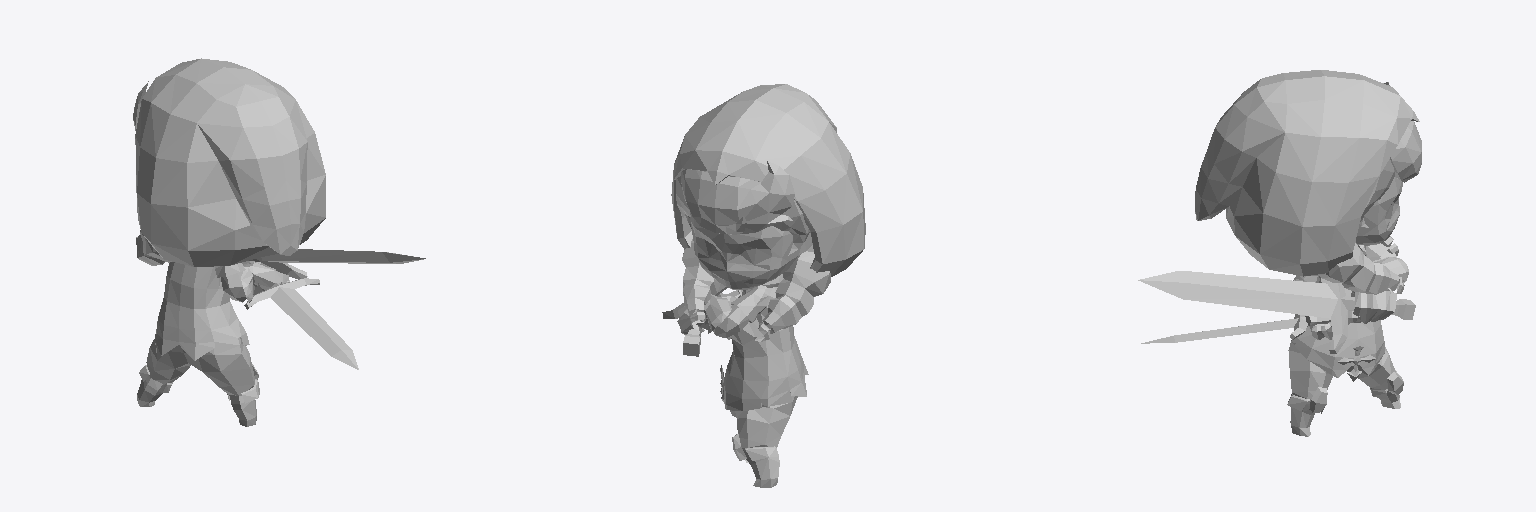
File: thief15f.obj
3 views of the same model, side by side, from view 1: azimuth 30°, elevation 25°; view 2: azimuth 150°, elevation 25°; view 3: azimuth 270°, elevation 25° (orthographic).
Visible parts, largest first — view 1: EQUIP_CAP_WORRIER5_LOD120, EQUIP_UPPER_WORRIER5_LOD120, EQUIP_FEET_WORRIER5_LOD120, sword1_LOD2, sword1_LOD003, EQUIP_GLOVES_WORRIER5_LOD120, EQUIP_HAIR_BODY_LOD120; view 2: EQUIP_CAP_WORRIER5_LOD120, EQUIP_HAIR_BODY_LOD120, EQUIP_UPPER_WORRIER5_LOD120, EQUIP_FACE_BODY_LOD120, EQUIP_FEET_WORRIER5_LOD120, EQUIP_GLOVES_WORRIER5_LOD120, sword1_LOD003; view 3: EQUIP_CAP_WORRIER5_LOD120, sword1_LOD003, EQUIP_HAIR_BODY_LOD120, EQUIP_FEET_WORRIER5_LOD120, EQUIP_UPPER_WORRIER5_LOD120, EQUIP_GLOVES_WORRIER5_LOD120, EQUIP_FACE_BODY_LOD120, sword1_LOD2.
Part boxes in pixels (bbox=[...]): EQUIP_CAP_WORRIER5_LOD120: bbox=[135, 58, 325, 266]; EQUIP_UPPER_WORRIER5_LOD120: bbox=[155, 262, 249, 360]; EQUIP_FEET_WORRIER5_LOD120: bbox=[137, 329, 259, 426]; sword1_LOD2: bbox=[244, 261, 358, 369]; sword1_LOD003: bbox=[249, 249, 425, 279]; EQUIP_GLOVES_WORRIER5_LOD120: bbox=[241, 261, 289, 302]; EQUIP_HAIR_BODY_LOD120: bbox=[133, 81, 171, 265]; EQUIP_CAP_WORRIER5_LOD120: bbox=[671, 84, 865, 296]; EQUIP_HAIR_BODY_LOD120: bbox=[676, 161, 830, 341]; EQUIP_UPPER_WORRIER5_LOD120: bbox=[715, 285, 808, 410]; EQUIP_FACE_BODY_LOD120: bbox=[690, 214, 812, 289]; EQUIP_FEET_WORRIER5_LOD120: bbox=[730, 390, 797, 487]; EQUIP_GLOVES_WORRIER5_LOD120: bbox=[677, 293, 737, 334]; sword1_LOD003: bbox=[662, 284, 727, 356]; EQUIP_CAP_WORRIER5_LOD120: bbox=[1195, 70, 1419, 276]; sword1_LOD003: bbox=[1138, 271, 1415, 353]; EQUIP_HAIR_BODY_LOD120: bbox=[1319, 82, 1421, 294]; EQUIP_FEET_WORRIER5_LOD120: bbox=[1287, 338, 1403, 436]; EQUIP_UPPER_WORRIER5_LOD120: bbox=[1293, 243, 1393, 381]; EQUIP_GLOVES_WORRIER5_LOD120: bbox=[1294, 257, 1408, 339]; EQUIP_FACE_BODY_LOD120: bbox=[1355, 177, 1402, 245]; sword1_LOD2: bbox=[1141, 310, 1360, 343].
Size of the model in its own units: 1.05 by 1.74 by 1.29.